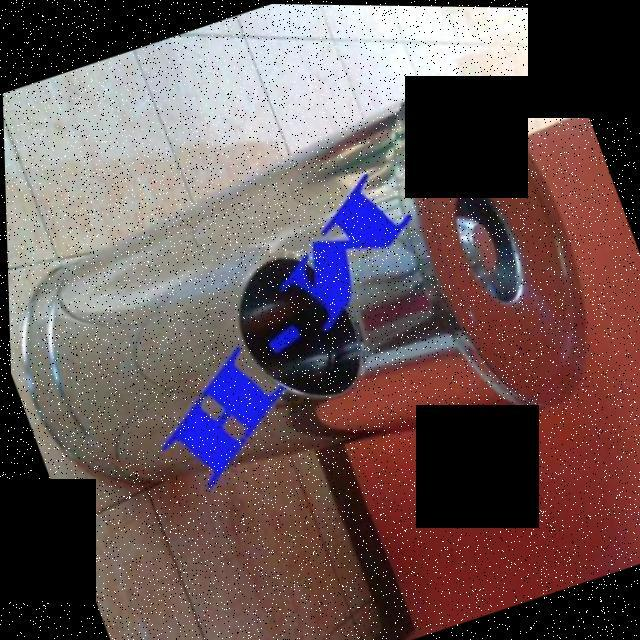bin: (0, 15, 637, 573)
